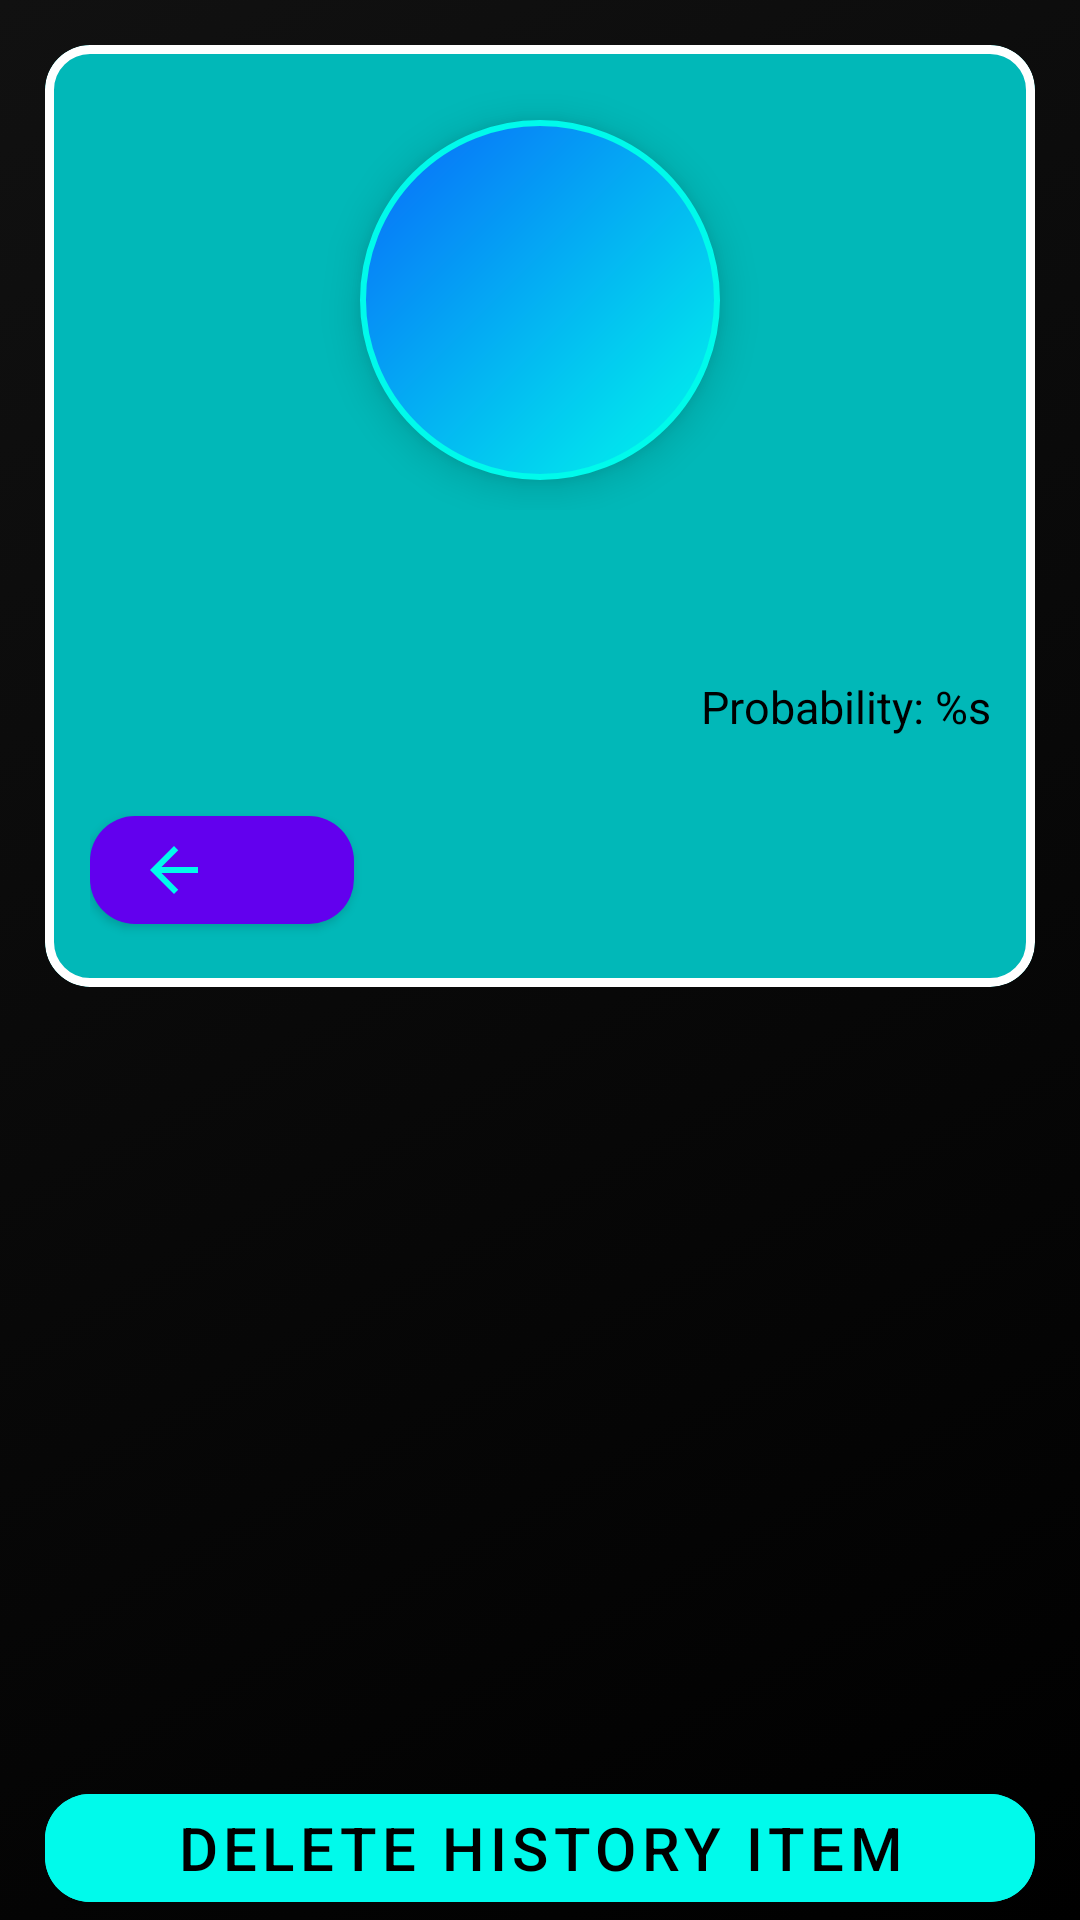

Screen size 1080*1920. Icon name, then its box in pixels as (x1, y1, x2, y2):
back arrow: (90, 816, 354, 924)
